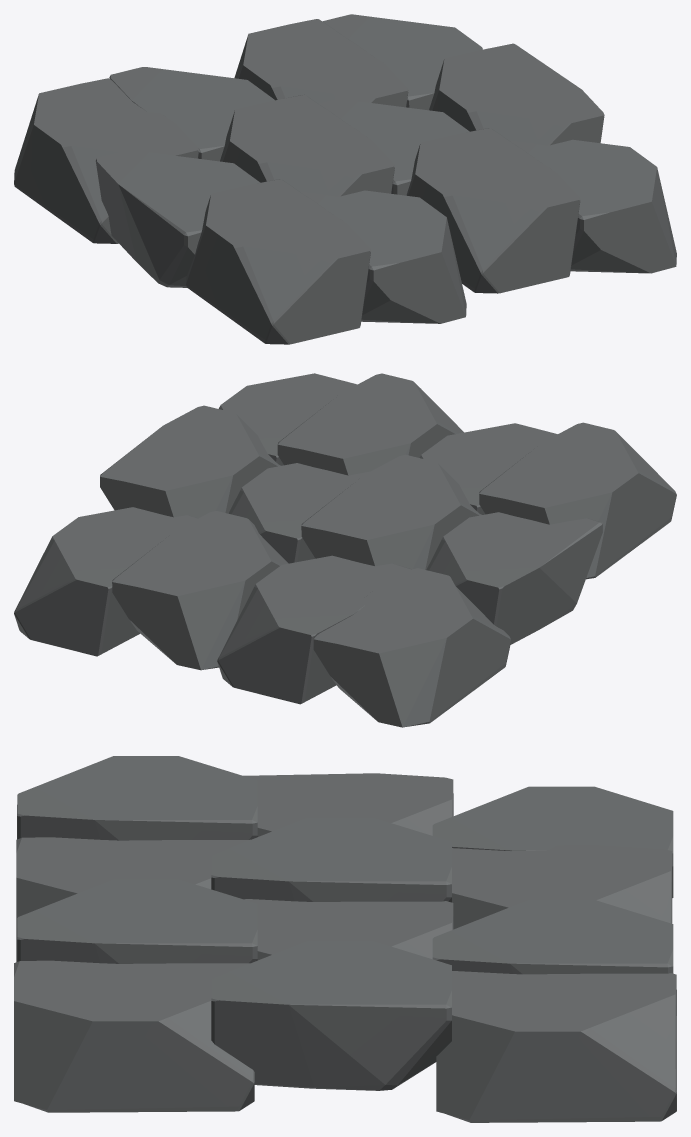
File: BlockFloor.fbx
3 renders of one model, top to bottom at view 1: azimuth 30°, elevation 25°; view 2: azimuth 150°, elevation 25°; view 3: azimuth 270°, elevation 25°, orthographic. The views are drawn at different scales.
Parts seen in each view (by area): view 1: Rock 4.033; view 2: Rock 4.033; view 3: Rock 4.033.
Part boxes in pixels (left/top/right/bottom): Rock 4.033: left=14, top=14, right=676, bottom=344; Rock 4.033: left=14, top=373, right=676, bottom=727; Rock 4.033: left=14, top=756, right=676, bottom=1122.
Size of the model in its own units: 1365 by 307 by 1519.
